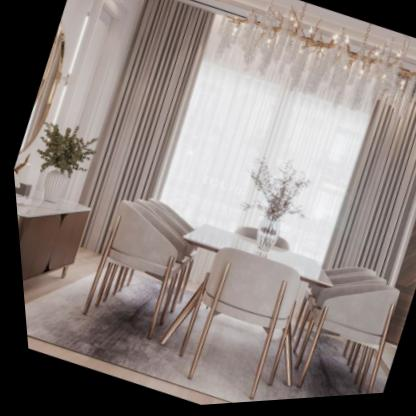Curtains: (67, 0, 416, 315)
Dining Table: (60, 169, 412, 413)
TV stand: (12, 194, 87, 282)
